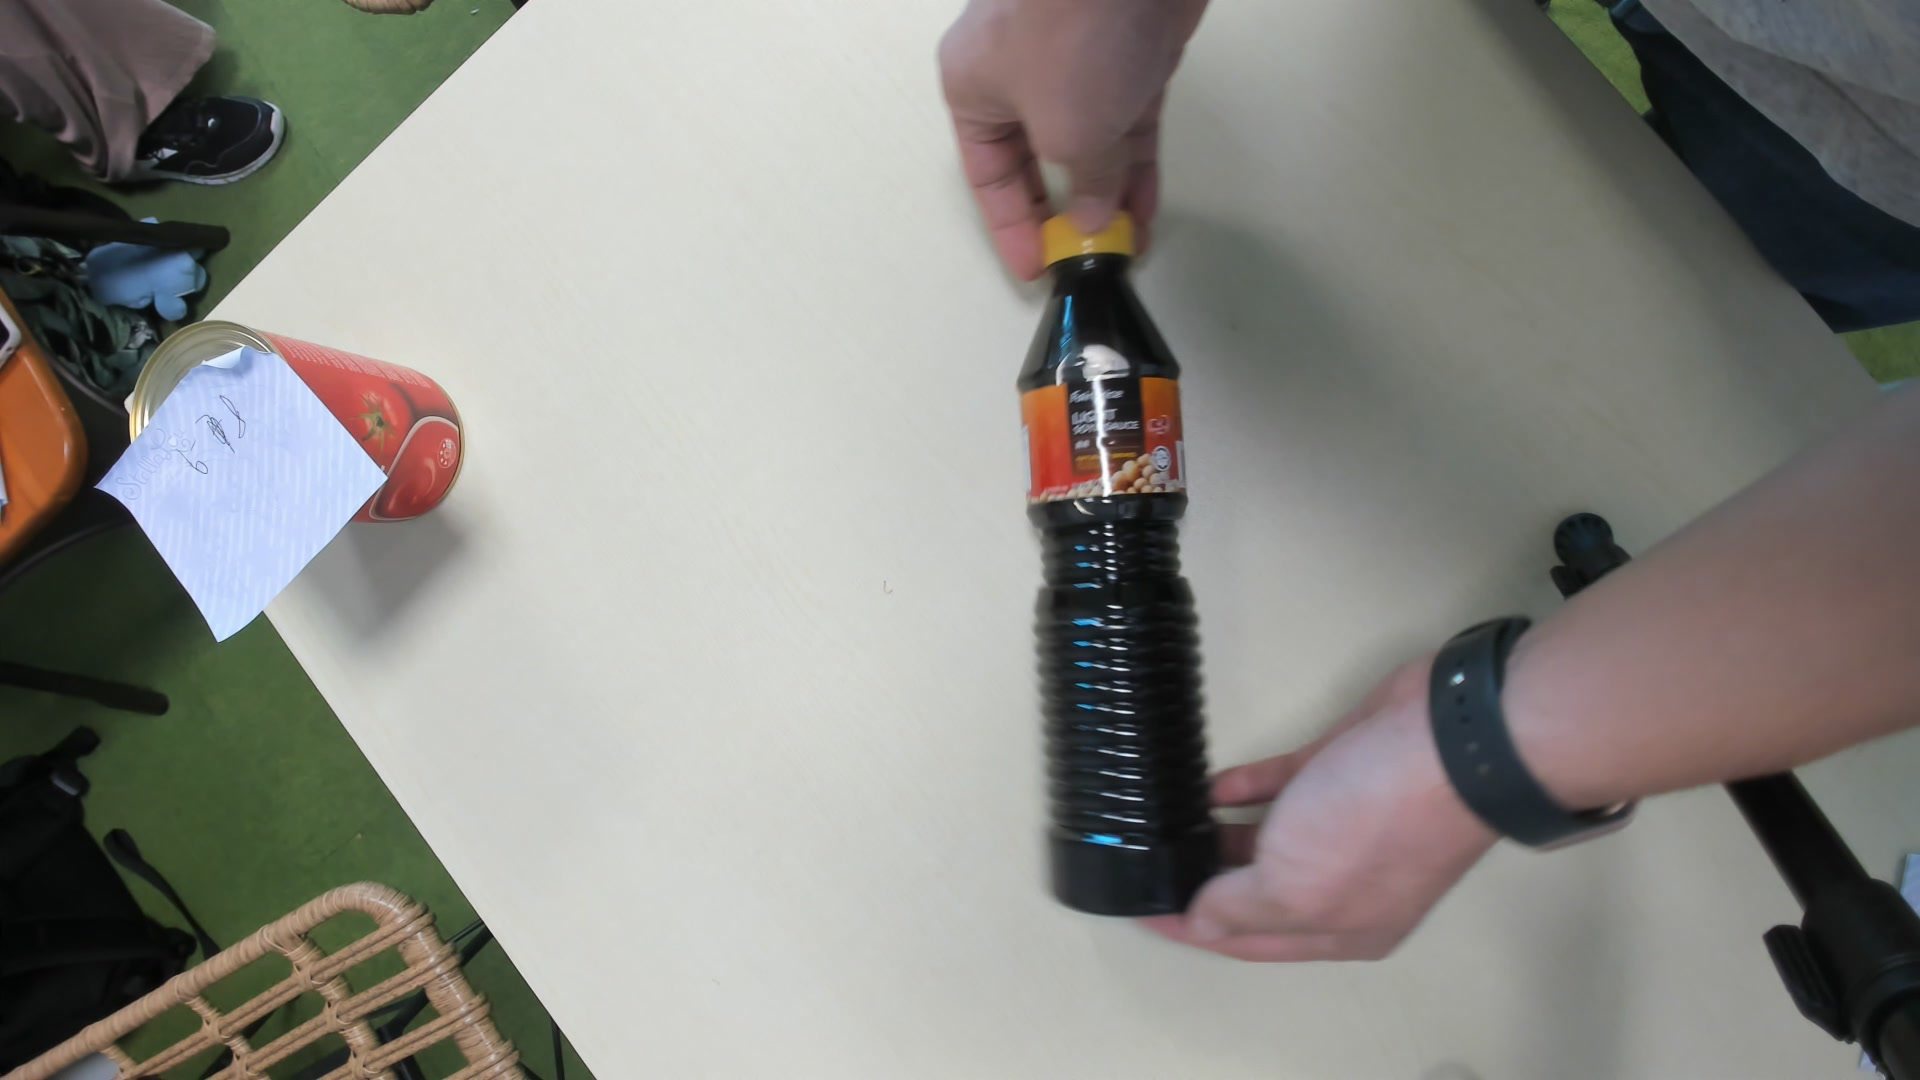OtherSauceDressingSoupbasePaste_600-699g_Halal_NonHealthy: (1015, 215, 1228, 924)
